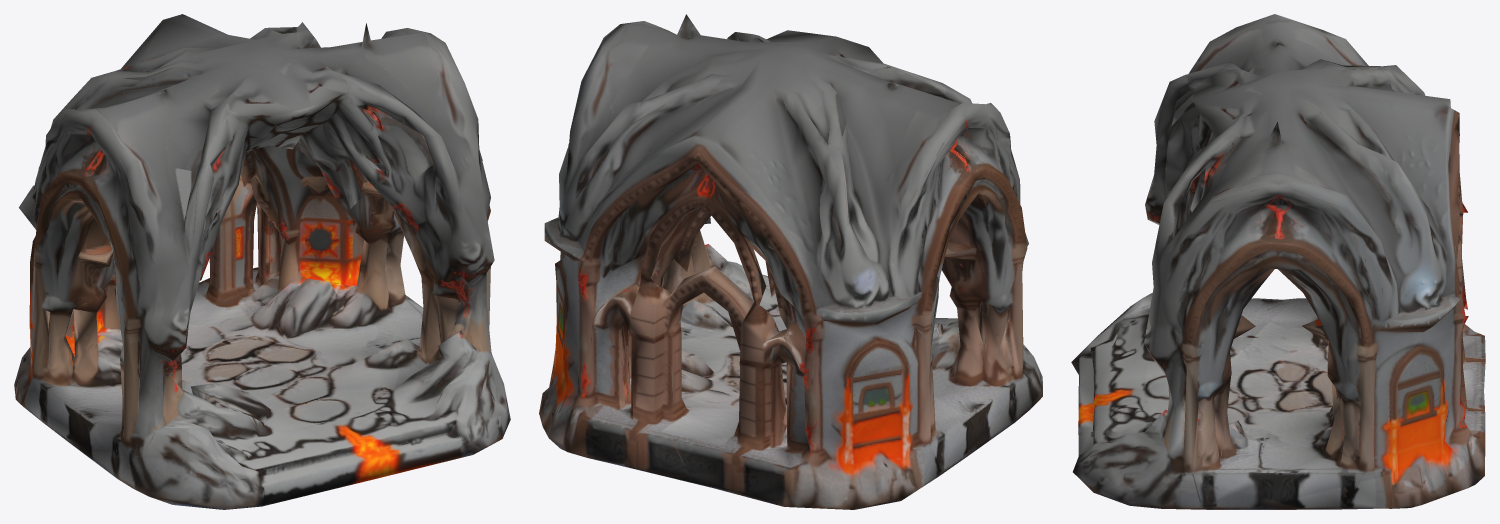
The model's file is the_molten_core.glb.
3 views of the same model, side by side, from view 1: azimuth 30°, elevation 25°; view 2: azimuth 150°, elevation 25°; view 3: azimuth 270°, elevation 25° (orthographic). The views are drawn at different scales.
Parts seen in each view (by area): view 1: Mesh1.0; view 2: Mesh1.0; view 3: Mesh1.0.
Boxes of the visible parts, box(x1,y1,x2,y2) form: Mesh1.0: box(14, 14, 510, 509); Mesh1.0: box(539, 14, 1042, 509); Mesh1.0: box(1071, 14, 1485, 509).
Size of the model in its own units: 1.91 by 1.78 by 1.9.
1 material, 1 textured.
